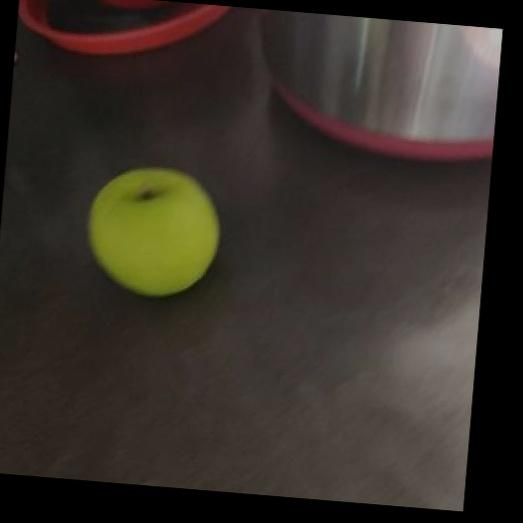green apple: (85, 166, 224, 299)
